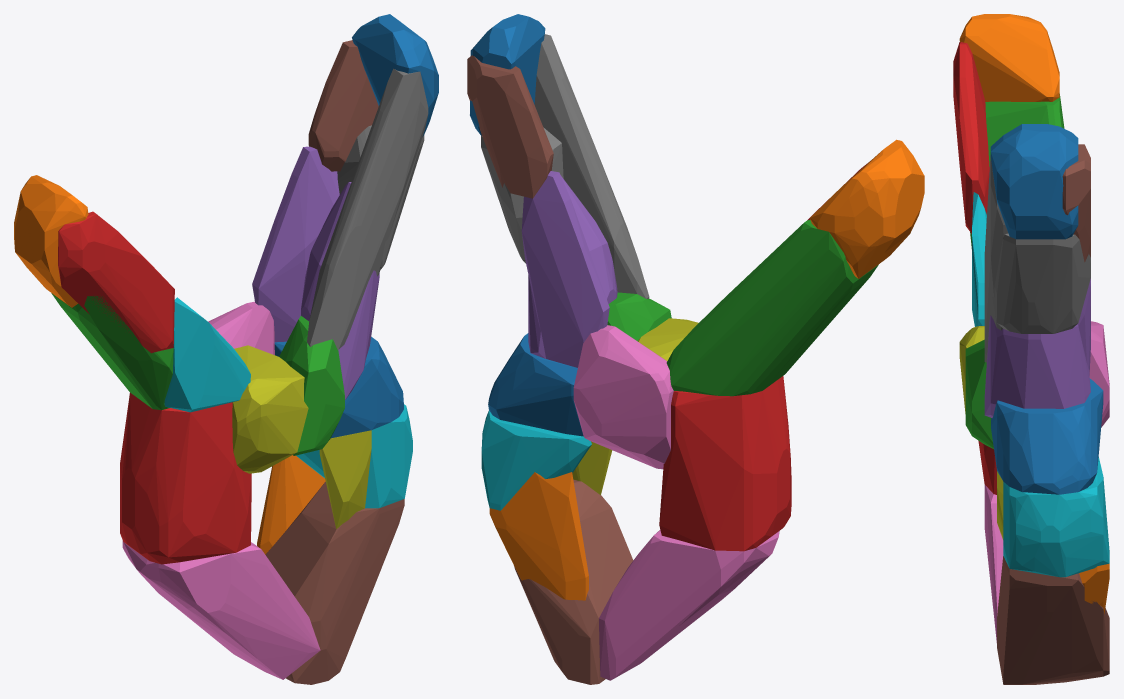
The model's file is decomp.obj.
The picture shows the model from 3 angles, left to right: view 1: azimuth 30°, elevation 25°; view 2: azimuth 150°, elevation 25°; view 3: azimuth 270°, elevation 25°; orthographic projection. The views are drawn at different scales.
Visible parts, largest first — view 1: collision003, collision007, collision005, collision006, collision013, collision014, collision008, collision019, collision002, collision015, collision001, collision012 (+8 smaller); view 2: collision003, collision002, collision006, collision016, collision014, collision005, collision001, collision007, collision011, collision015, collision009, collision010 (+6 smaller); view 3: collision005, collision010, collision009, collision000, collision017, collision004, collision001, collision013, collision002, collision007, collision012, collision015 (+8 smaller).
Boxes of the visible parts, x1,y1,x2,y2 form: collision003: (120,392,251,564); collision007: (307,68,428,349); collision005: (265,482,404,684); collision006: (122,540,320,679); collision013: (58,211,174,353); collision014: (252,146,339,342); collision008: (232,345,308,473); collision019: (164,297,250,412); collision002: (51,293,173,410); collision015: (308,40,378,171); collision001: (14,175,88,307); collision012: (279,316,344,455); collision003: (659,376,791,551); collision002: (666,220,878,396); collision006: (599,530,779,680); collision016: (573,325,673,469); collision014: (521,171,609,367); collision005: (514,479,633,684); collision001: (810,139,924,278); collision007: (534,34,649,298); collision011: (489,472,588,600); collision015: (467,55,553,198); collision009: (481,410,591,510); collision010: (488,333,583,436); collision005: (997,556,1109,684); collision010: (991,378,1103,494); collision009: (1003,457,1109,577); collision000: (990,124,1078,239); collision017: (992,233,1090,333); collision004: (984,315,1090,417); collision001: (959,14,1059,101); collision013: (953,42,989,233); collision002: (970,94,1064,248); collision007: (984,155,1007,362); collision012: (965,339,993,448); collision015: (1062,144,1090,262).
Size of the model in its own units: 0.1198 by 0.1724 by 0.041.
